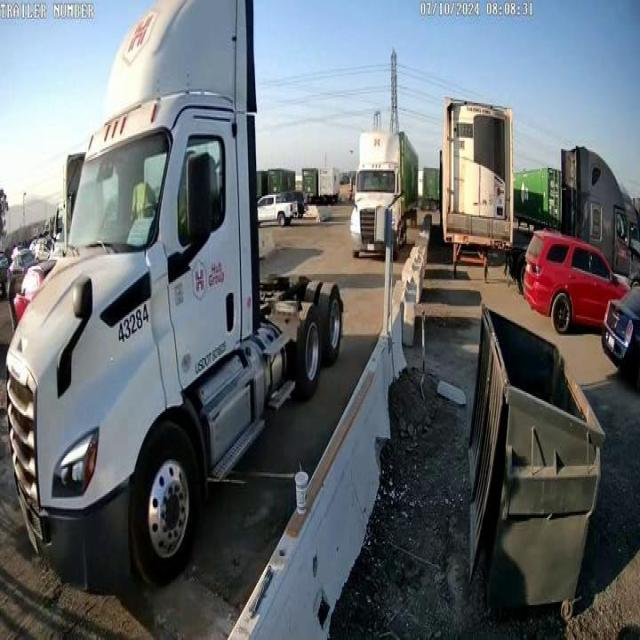TRUCK_OUT: (5, 1, 345, 592)
